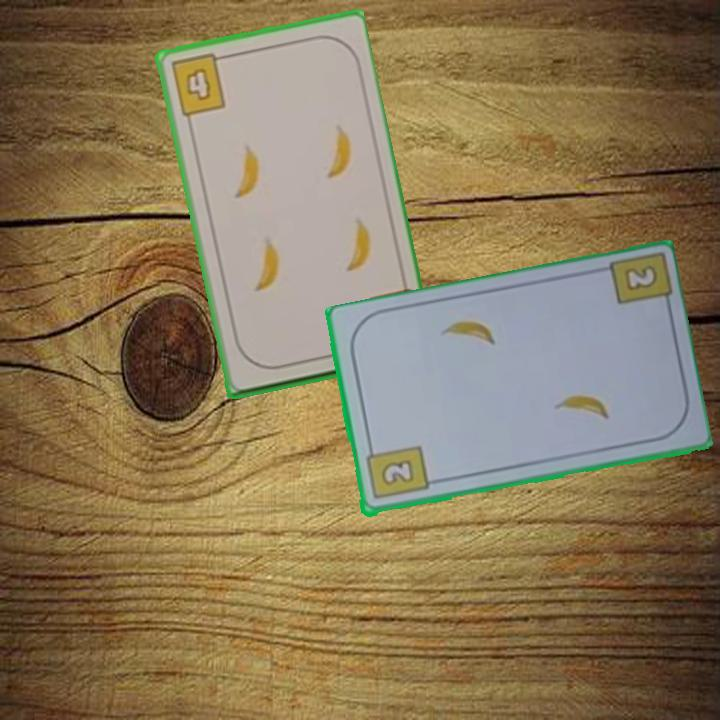2b: (362, 441, 431, 503), (620, 259, 661, 295)
4b: (167, 50, 229, 119)
